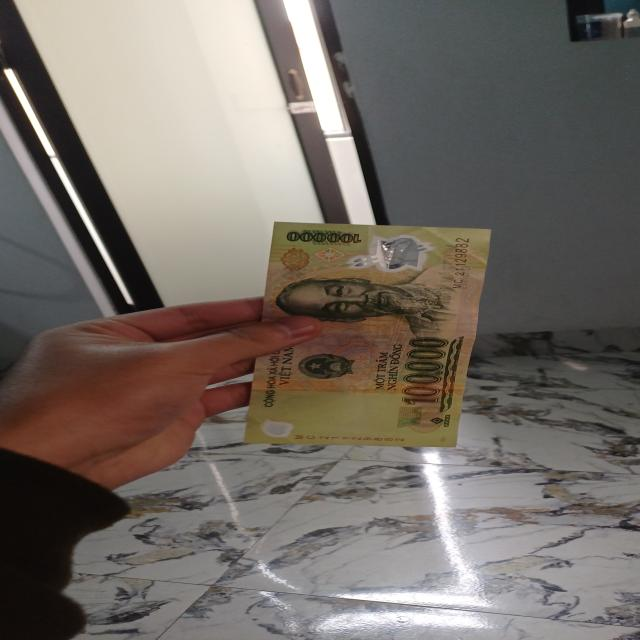100 000 VND: (235, 218, 500, 453)
